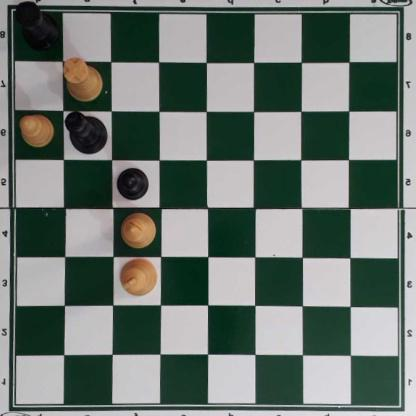black-king: (65, 111, 110, 153)
black-pawn: (117, 165, 149, 200)
black-rook: (17, 1, 60, 51)
white-bishop: (121, 211, 156, 248)
white-king: (119, 256, 160, 297)
white-pawn: (19, 112, 55, 148)
white-rook: (63, 55, 105, 101)
